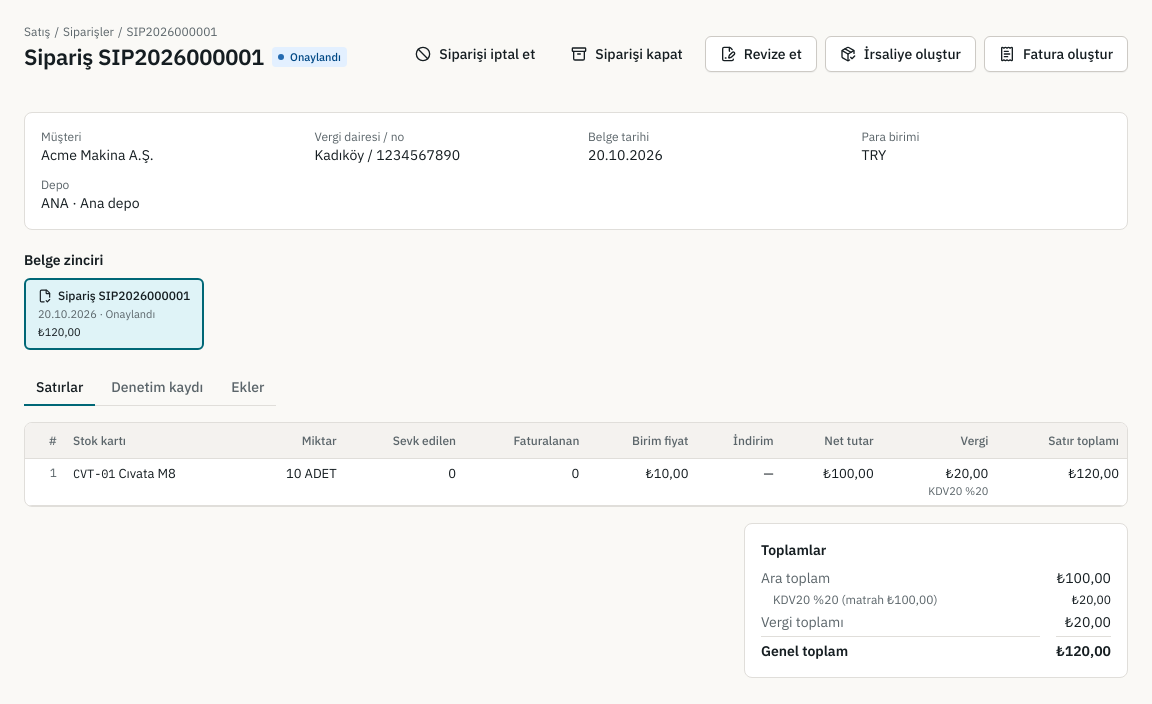
Scenario: order fulfilment › revises a confirmed order before deliveries and cancels it
Expected: the heading "Sipariş SIP2026000001" is shown, top-left (24, 42), bottom-right (264, 72)
Click the button "Revize et": (761, 54) top-left (705, 36), bottom-right (817, 72)
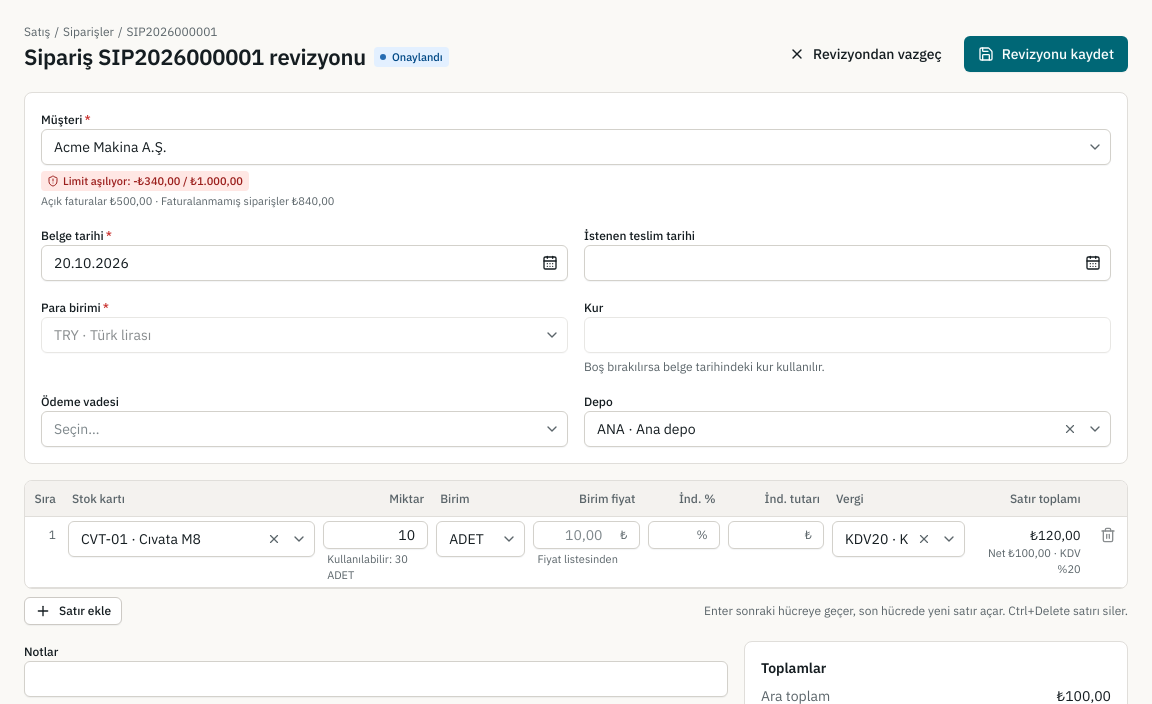
Now the heading "Sipariş SIP2026000001 revizyonu" is shown, box top-left (24, 42), bottom-right (366, 72)
Click the field named "Miktar, 1. satır": (376, 535) top-left (323, 521), bottom-right (428, 549)
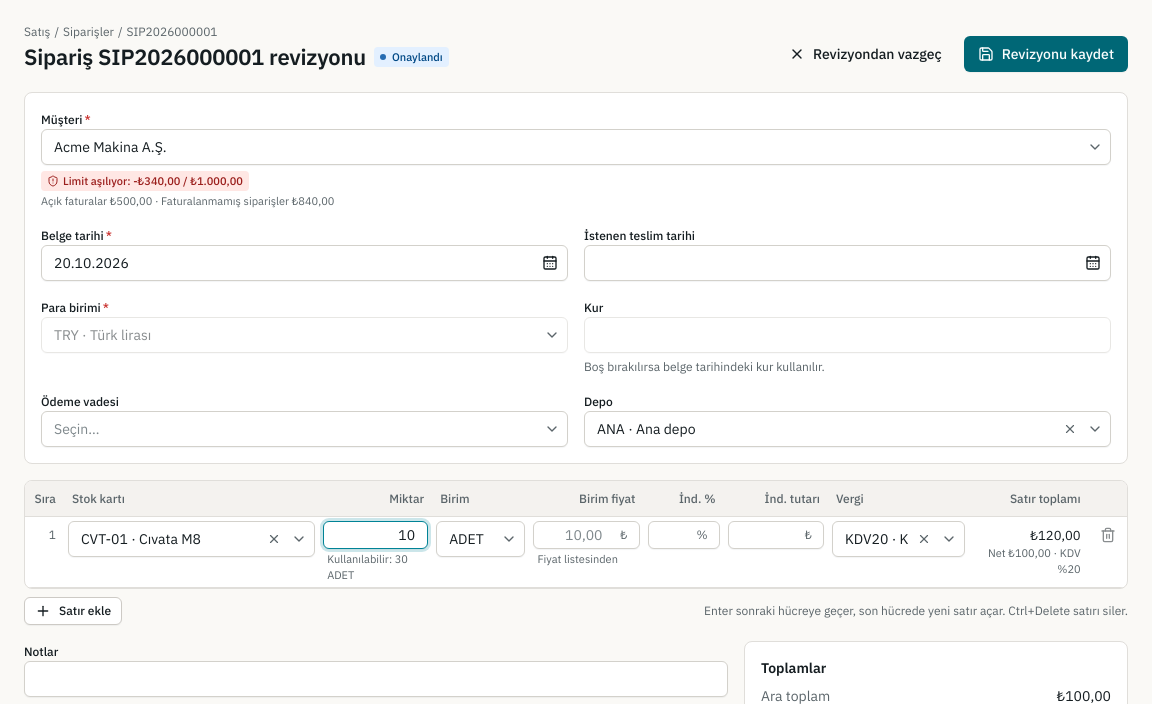
Type keys "{Control>}a{/Control}8"
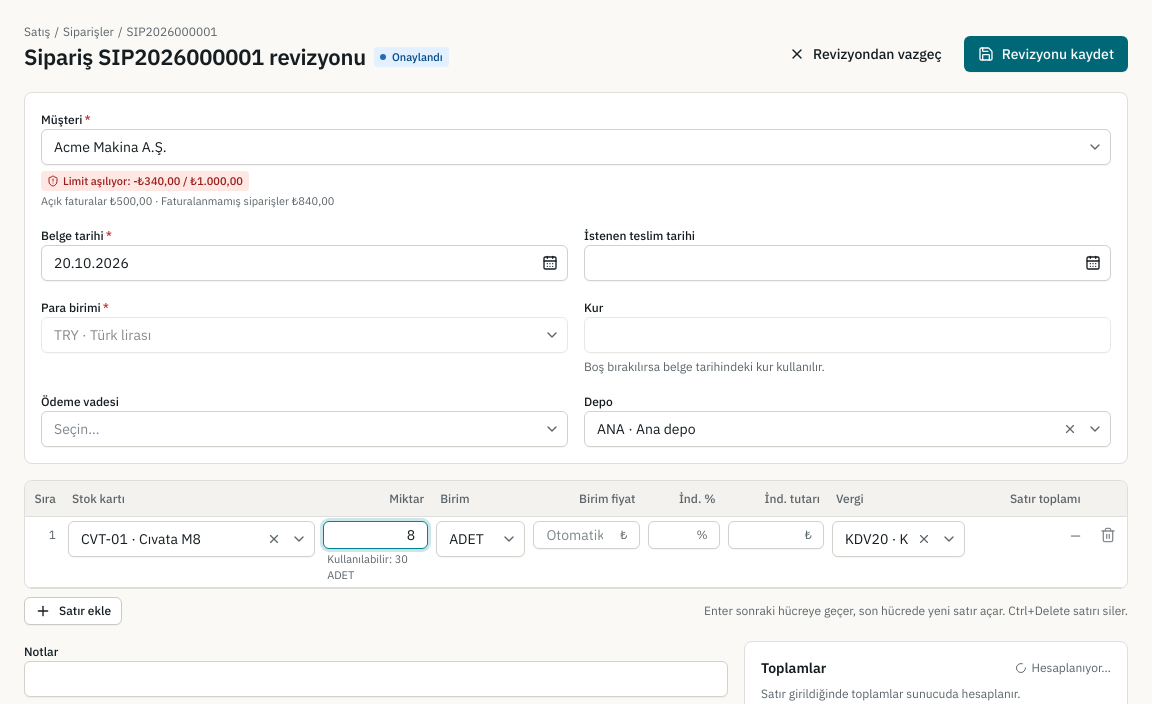
Click the button "Revizyonu kaydet": (1046, 54) top-left (964, 36), bottom-right (1128, 72)
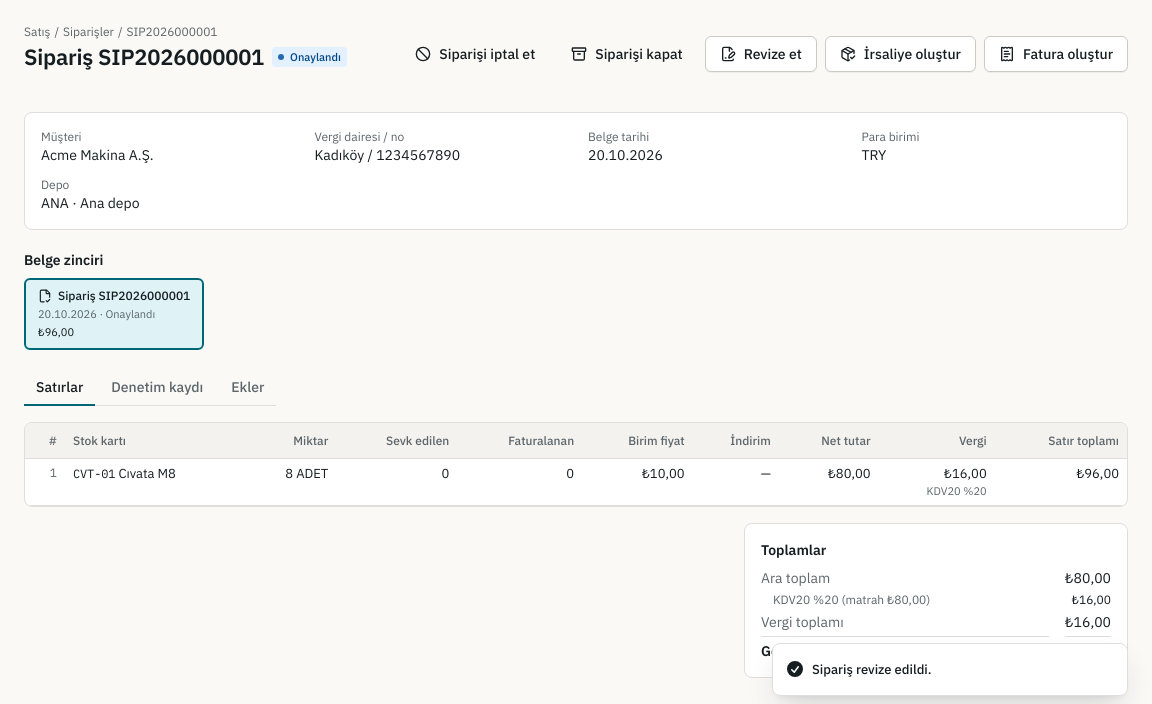
Expected: the heading "Sipariş SIP2026000001" is shown, top-left (24, 42), bottom-right (264, 72)
Click the button "Siparişi iptal et": (475, 54) top-left (401, 36), bottom-right (549, 72)
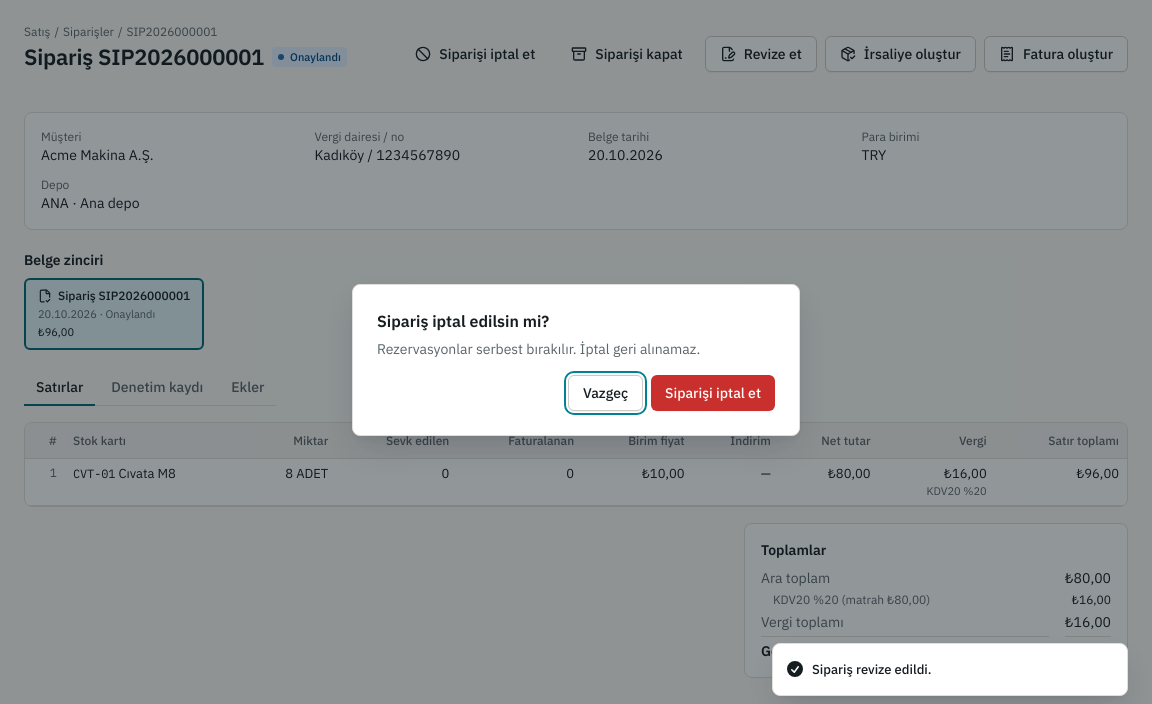
Click the button "Siparişi iptal et": (713, 393) top-left (651, 375), bottom-right (775, 411)
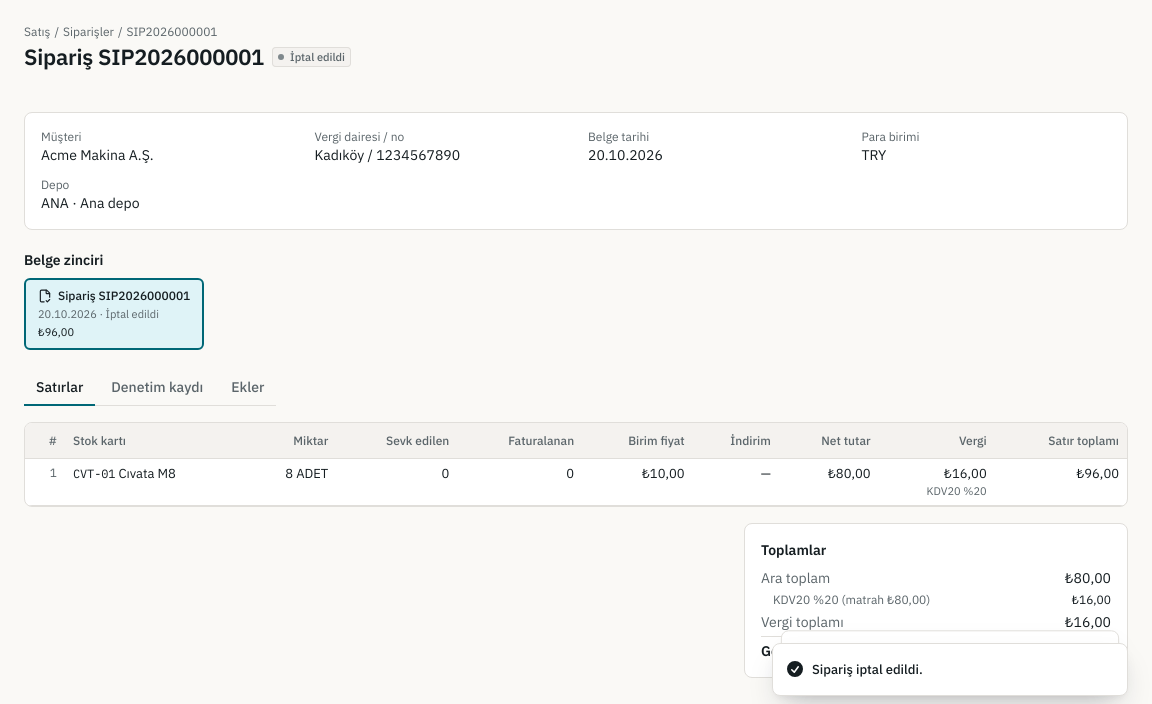
Now the text "İptal edildi" is shown, box top-left (272, 47), bottom-right (351, 67)
